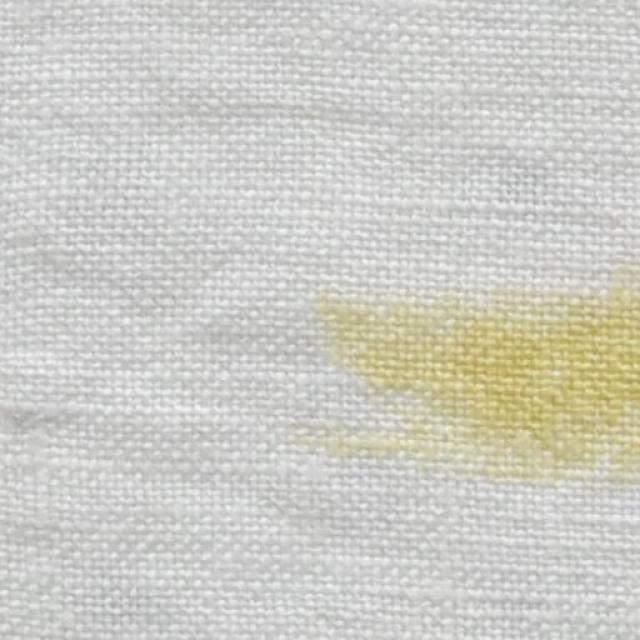Stain: (319, 268, 640, 484)
